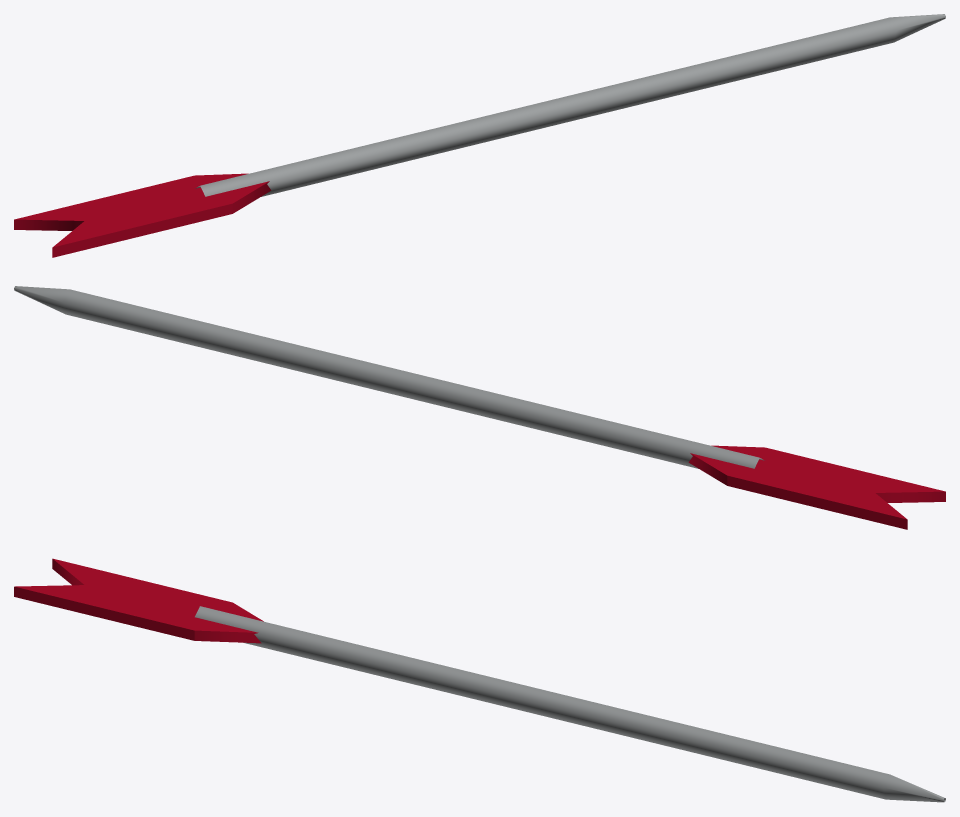
The model's file is arrow.fbx.
3 views of the same model, one above another, from view 1: azimuth 30°, elevation 25°; view 2: azimuth 150°, elevation 25°; view 3: azimuth 330°, elevation 25° (orthographic).
Visible parts, largest first — view 1: pCube5; view 2: pCube5; view 3: pCube5.
Part boxes in pixels (x1,y1,x2,y2): pCube5: (14,14,945,257); pCube5: (14,286,945,529); pCube5: (14,558,945,802).
Bounding box in the file's own units: 9.34 × 0.2183 × 0.6797.
